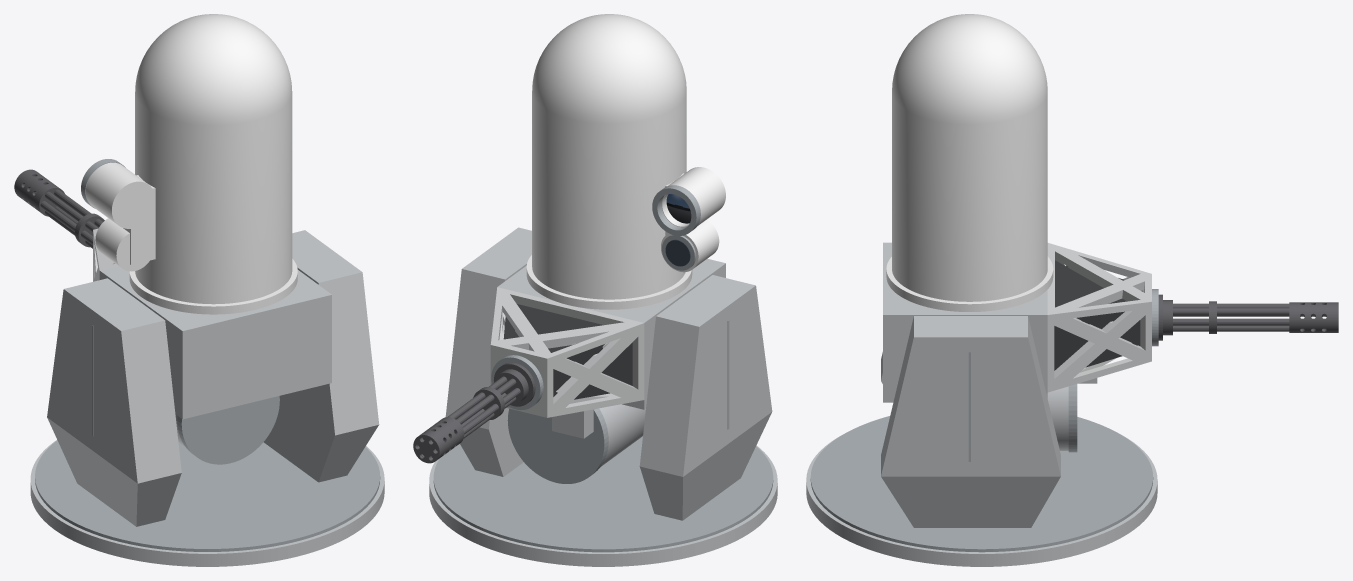
File: ciws_phalanx.glb
The picture shows the model from 3 angles, left to right: view 1: azimuth 30°, elevation 25°; view 2: azimuth 150°, elevation 25°; view 3: azimuth 270°, elevation 25°; orthographic projection.
Visible parts, largest first — view 1: GunGeo_Radome_White_smooth, TrainGeo_Mount_Grey, BaseGeo_Seam_Grey, GunGeo_Mount_Grey, BaseGeo_Mount_Grey_smooth, GunGeo_Seam_Grey, SpinGeo_Gun_Dark, GunGeo_Radome_White, GunGeo_Frame_Grey; view 2: GunGeo_Radome_White_smooth, TrainGeo_Mount_Grey, BaseGeo_Seam_Grey, GunGeo_Frame_Grey, GunGeo_Seam_Grey, BaseGeo_Mount_Grey_smooth, GunGeo_Mount_Grey, SpinGeo_Gun_Dark, GunGeo_Inside_Dark, GunGeo_Mount_Grey_smooth, GunGeo_Seam_Grey_smooth, GunGeo_Gun_Dark (+3 smaller); view 3: GunGeo_Radome_White_smooth, TrainGeo_Mount_Grey, BaseGeo_Seam_Grey, GunGeo_Frame_Grey, BaseGeo_Mount_Grey_smooth, GunGeo_Mount_Grey, SpinGeo_Gun_Dark, GunGeo_Inside_Dark, GunGeo_Seam_Grey, GunGeo_Mount_Grey_smooth.
Part boxes in pixels (box(x1,y1,x2,y2)): GunGeo_Radome_White_smooth: box(86, 14, 297, 314); TrainGeo_Mount_Grey: box(47, 230, 379, 526); BaseGeo_Seam_Grey: box(35, 440, 380, 551); GunGeo_Mount_Grey: box(99, 266, 331, 419); BaseGeo_Mount_Grey_smooth: box(30, 440, 384, 566); GunGeo_Seam_Grey: box(177, 396, 279, 464); SpinGeo_Gun_Dark: box(14, 169, 104, 248); GunGeo_Radome_White: box(123, 175, 155, 264); GunGeo_Frame_Grey: box(93, 228, 118, 281); GunGeo_Radome_White_smooth: box(526, 14, 725, 309); TrainGeo_Mount_Grey: box(445, 227, 772, 520); BaseGeo_Seam_Grey: box(433, 436, 773, 552); GunGeo_Frame_Grey: box(490, 287, 644, 417); GunGeo_Seam_Grey: box(491, 235, 696, 483); BaseGeo_Mount_Grey_smooth: box(429, 445, 777, 566); GunGeo_Mount_Grey: box(497, 258, 725, 438); SpinGeo_Gun_Dark: box(413, 376, 520, 463); GunGeo_Inside_Dark: box(503, 304, 632, 399); GunGeo_Mount_Grey_smooth: box(599, 404, 645, 466); GunGeo_Seam_Grey_smooth: box(652, 185, 700, 235); GunGeo_Gun_Dark: box(493, 362, 535, 406); GunGeo_Radome_White_smooth: box(886, 14, 1053, 311); TrainGeo_Mount_Grey: box(881, 316, 1060, 527); BaseGeo_Seam_Grey: box(810, 416, 1153, 552); GunGeo_Frame_Grey: box(1047, 243, 1151, 392); BaseGeo_Mount_Grey_smooth: box(806, 434, 1157, 566); GunGeo_Mount_Grey: box(883, 242, 1097, 402); SpinGeo_Gun_Dark: box(1173, 301, 1338, 333); GunGeo_Inside_Dark: box(1054, 260, 1142, 370); GunGeo_Seam_Grey: box(1068, 289, 1158, 452); GunGeo_Mount_Grey_smooth: box(1047, 386, 1068, 450).
Bounding box in the file's own units: 3.2 × 4.74 × 4.85.
8 materials, 1 textured.
